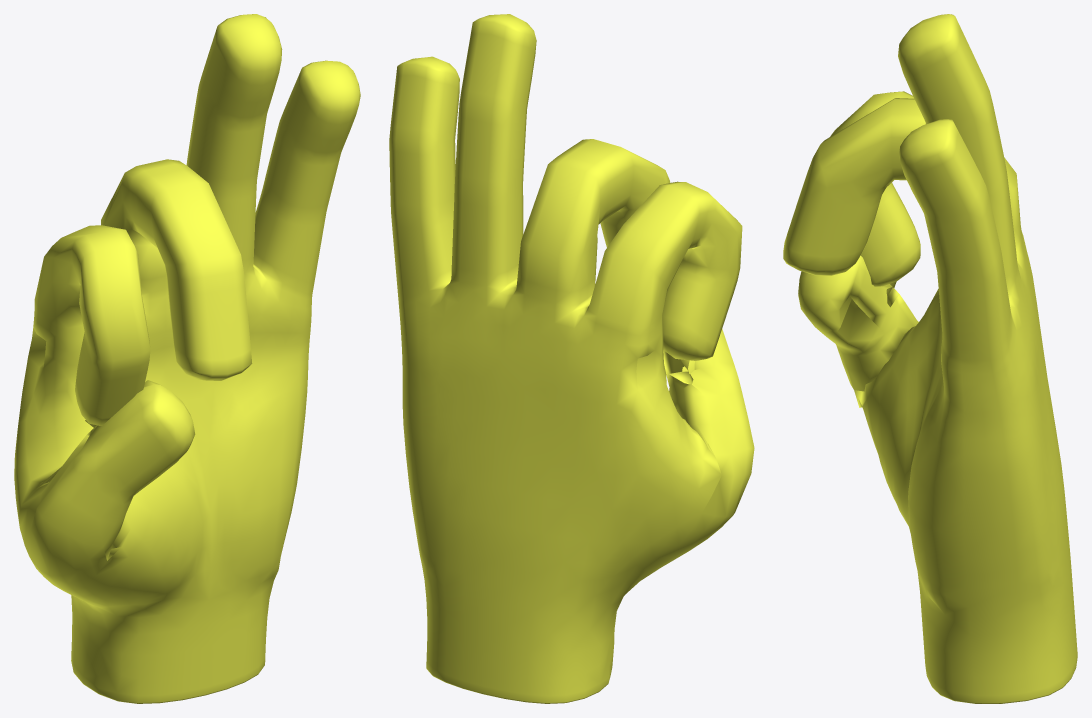
3 renders of one model, left to right at view 1: azimuth 30°, elevation 25°; view 2: azimuth 150°, elevation 25°; view 3: azimuth 270°, elevation 25°, orthographic. The views are drawn at different scales.
Parts seen in each view (by area): view 1: uploads_files_810024_Hand; view 2: uploads_files_810024_Hand; view 3: uploads_files_810024_Hand.
Boxes of the visible parts, left/top/right/bottom form: uploads_files_810024_Hand: left=14, top=14, right=360, bottom=703; uploads_files_810024_Hand: left=389, top=14, right=754, bottom=703; uploads_files_810024_Hand: left=783, top=14, right=1077, bottom=703.
Bounding box in the file's own units: 1.48 × 2.72 × 1.08.
